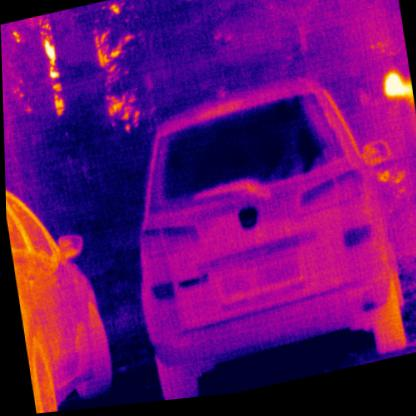vehicle: (110, 65, 409, 406)
